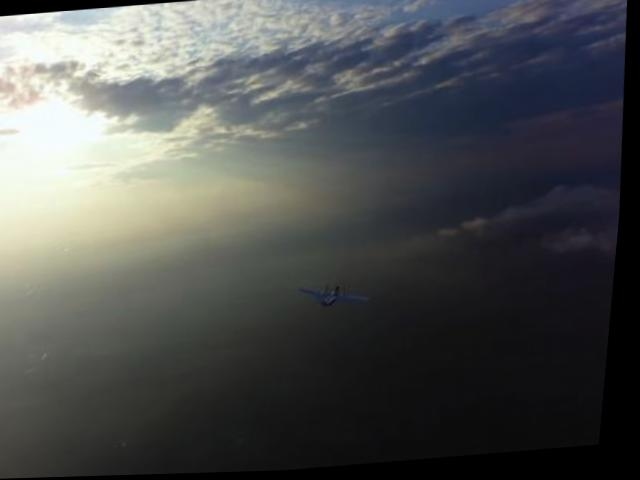uav: (301, 277, 374, 316)
